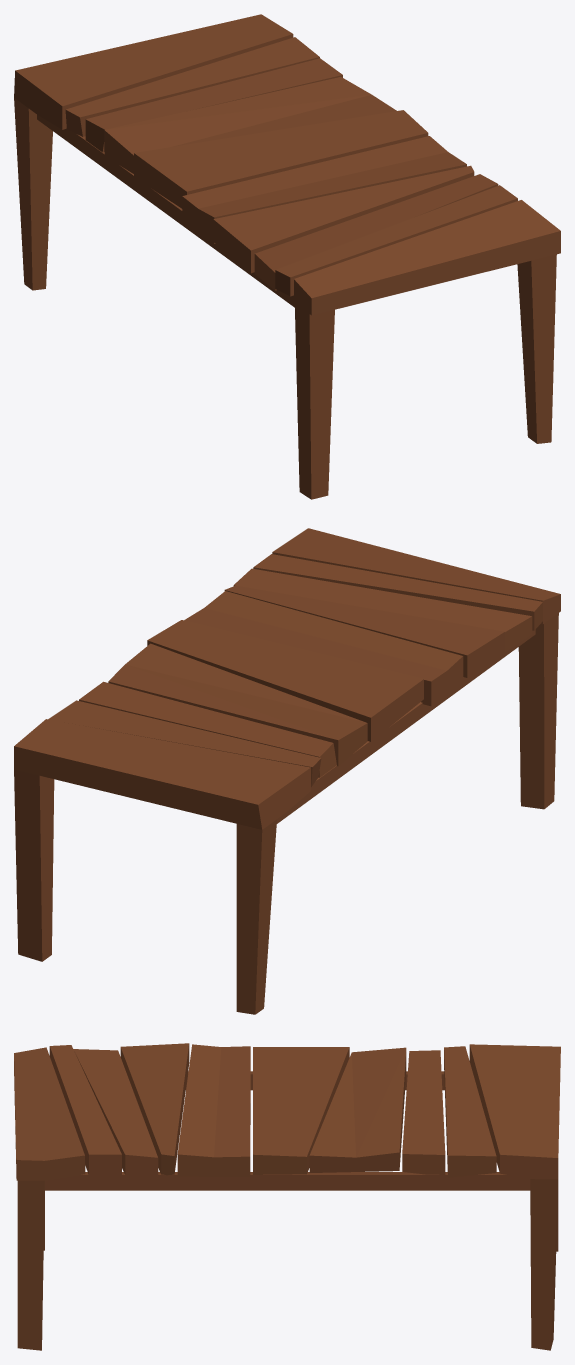
The model's file is tableplank02.obj.
3 renders of one model, top to bottom at view 1: azimuth 30°, elevation 25°; view 2: azimuth 150°, elevation 25°; view 3: azimuth 270°, elevation 25°, orthographic. The views are drawn at different scales.
Parts seen in each view (by area): view 1: Cube_Cube.001; view 2: Cube_Cube.001; view 3: Cube_Cube.001.
Boxes of the visible parts, x1,y1,x2,y2 form: Cube_Cube.001: (14, 14, 560, 499); Cube_Cube.001: (14, 528, 560, 1014); Cube_Cube.001: (14, 1043, 560, 1350).
Size of the model in its own units: 1 by 0.8001 by 2.02.
